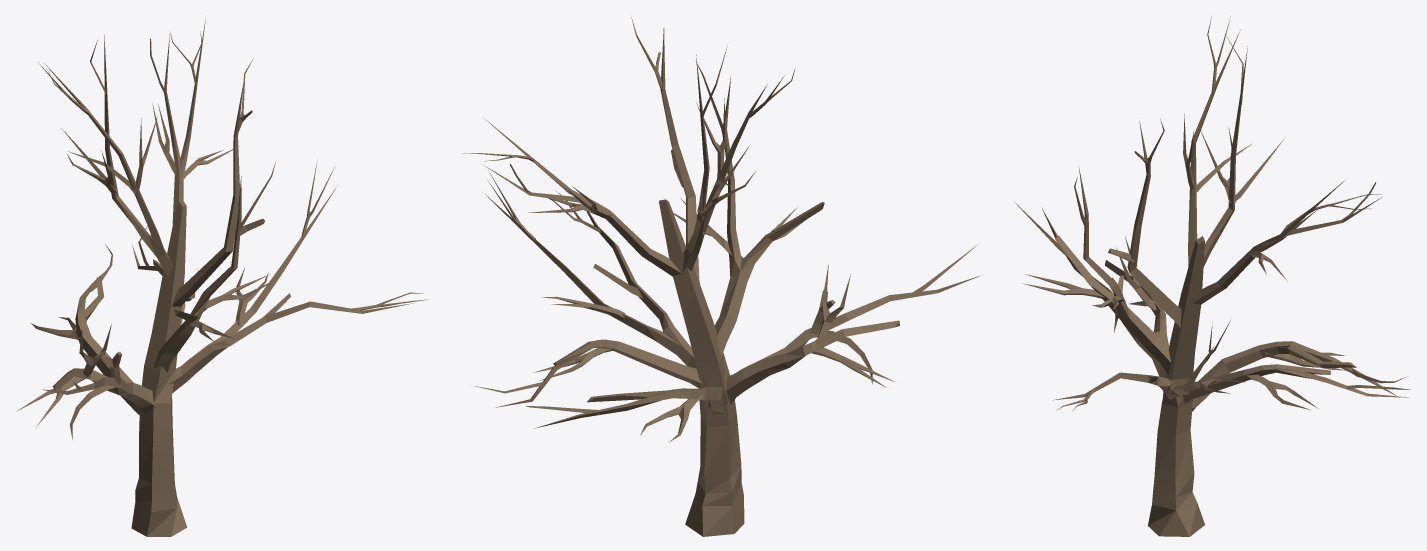
File: tree_bare_a_14.FBX
3 renders of one model, left to right at view 1: azimuth 30°, elevation 25°; view 2: azimuth 150°, elevation 25°; view 3: azimuth 270°, elevation 25°, orthographic. The views are drawn at different scales.
Visible parts, largest first — view 1: tree_bare_a_14; view 2: tree_bare_a_14; view 3: tree_bare_a_14.
Boxes of the visible parts, box(x1,y1,x2,y2) form: tree_bare_a_14: box(16, 18, 429, 536); tree_bare_a_14: box(462, 17, 980, 536); tree_bare_a_14: box(1014, 16, 1410, 536).
Size of the model in its own units: 5.2 by 5.96 by 4.53.
